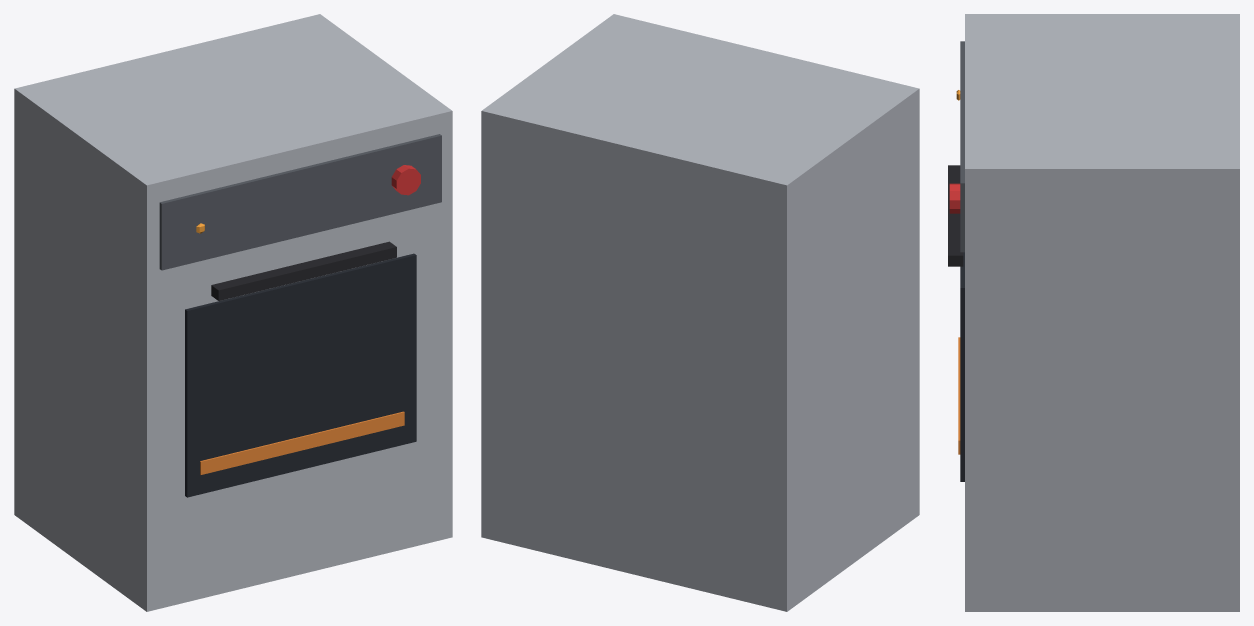
Rendered from lab_oven.glb.
3 views of the same model, side by side, from view 1: azimuth 30°, elevation 25°; view 2: azimuth 150°, elevation 25°; view 3: azimuth 270°, elevation 25° (orthographic). The views are drawn at different scales.
Visible parts, largest first — view 1: body_oven_steel, door_oven_glass, panel_oven_panel, handle_oven_handle, glow_oven_glow, knob_oven_knob; view 2: body_oven_steel; view 3: body_oven_steel, door_oven_glass, panel_oven_panel, handle_oven_handle.
Boxes of the visible parts, x1,y1,x2,y2 form: body_oven_steel: [14, 14, 452, 611]; door_oven_glass: [185, 253, 416, 497]; panel_oven_panel: [159, 134, 441, 270]; handle_oven_handle: [211, 241, 396, 300]; glow_oven_glow: [200, 411, 404, 474]; knob_oven_knob: [391, 165, 420, 195]; body_oven_steel: [481, 14, 919, 611]; body_oven_steel: [965, 14, 1239, 611]; door_oven_glass: [960, 252, 964, 481]; panel_oven_panel: [960, 41, 964, 252]; handle_oven_handle: [948, 165, 963, 266].
Bounding box in the file's own units: 1.2 × 1.6 × 0.955.
